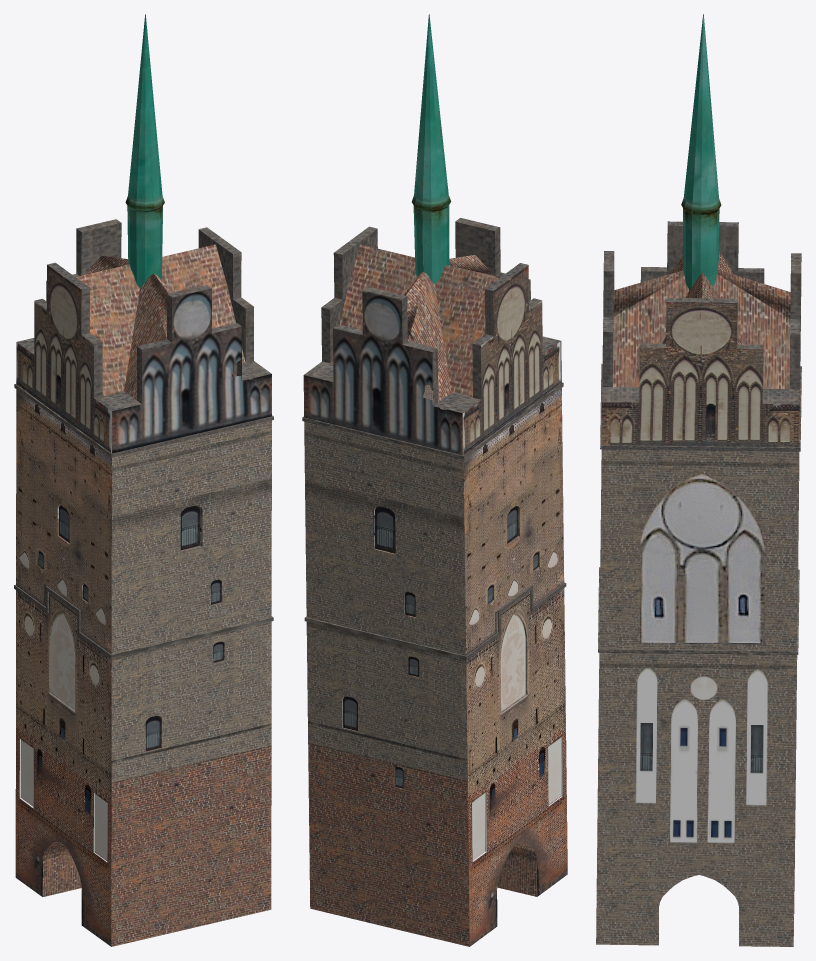
Rendered from kroepelinertor.obj.
The picture shows the model from 3 angles, left to right: view 1: azimuth 30°, elevation 25°; view 2: azimuth 150°, elevation 25°; view 3: azimuth 270°, elevation 25°; orthographic projection. The views are drawn at different scales.
Parts seen in each view (by area): view 1: kroepi; view 2: kroepi; view 3: kroepi.
Boxes of the visible parts, x1,y1,x2,y2 form: kroepi: (14, 14, 273, 946); kroepi: (302, 14, 567, 946); kroepi: (596, 14, 801, 946).
Size of the model in its own units: 6.53 by 33.17 by 6.91.
